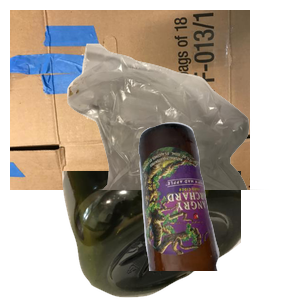cardboard: (10, 10, 250, 190)
glass: (136, 120, 300, 300)
plastic: (60, 171, 300, 300)
trash: (65, 41, 300, 221)
